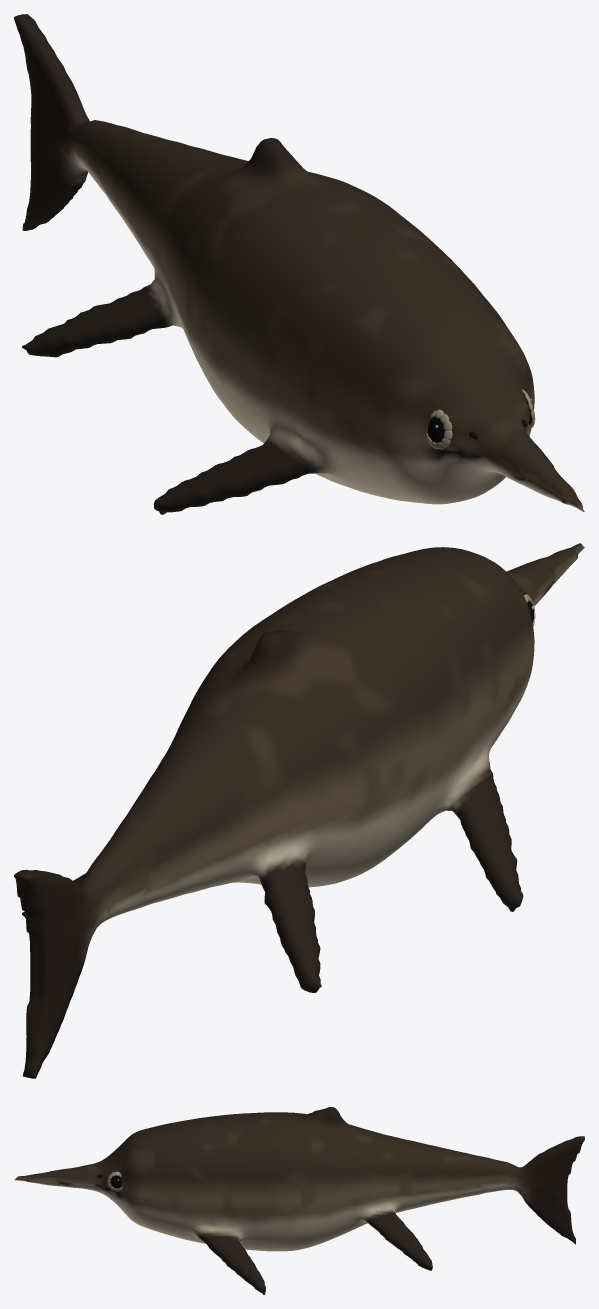
File: ShonisaurusPopularis.fbx
3 views of the same model, one above another, from view 1: azimuth 30°, elevation 25°; view 2: azimuth 150°, elevation 25°; view 3: azimuth 270°, elevation 25° (orthographic). The views are drawn at different scales.
Visible parts, largest first — view 1: ShonisaurusPopularis; view 2: ShonisaurusPopularis; view 3: ShonisaurusPopularis.
Boxes of the visible parts, left/top/right/bottom form: ShonisaurusPopularis: left=14, top=14, right=584, bottom=514; ShonisaurusPopularis: left=14, top=543, right=584, bottom=1078; ShonisaurusPopularis: left=14, top=1107, right=584, bottom=1294.
Size of the model in its own units: 0.7193 by 0.5109 by 1.84.
